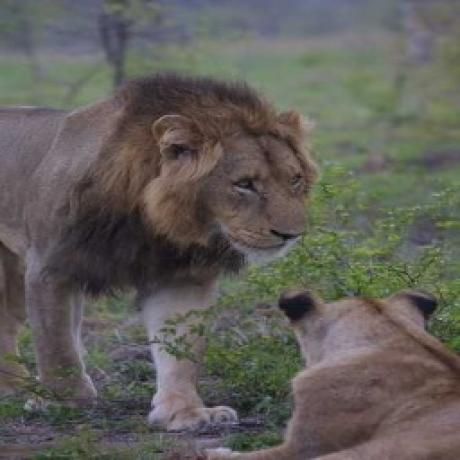Lion: (0, 72, 313, 429), (201, 281, 460, 460)
